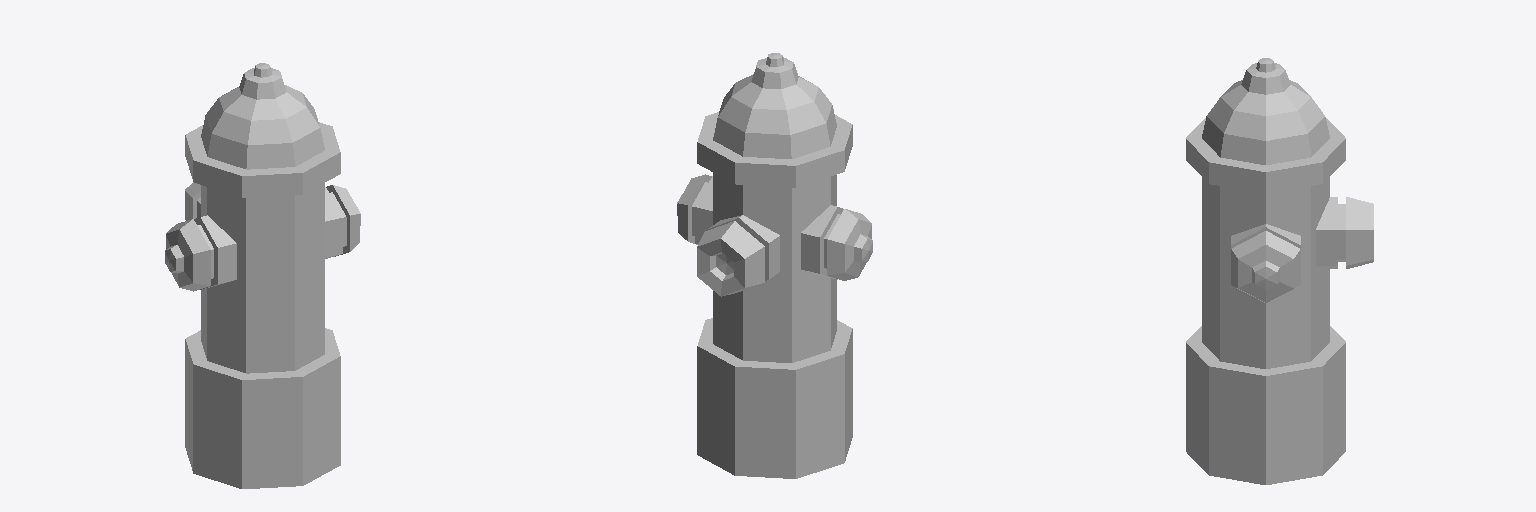
The model's file is FireHydrant_LowPoly.obj.
3 views of the same model, side by side, from view 1: azimuth 30°, elevation 25°; view 2: azimuth 150°, elevation 25°; view 3: azimuth 270°, elevation 25° (orthographic).
Parts seen in each view (by area): view 1: Circle.002; view 2: Circle.002; view 3: Circle.002.
Boxes of the visible parts, x1=… form: Circle.002: x1=165, y1=63, x2=360, y2=488; Circle.002: x1=677, y1=53, x2=872, y2=478; Circle.002: x1=1186, y1=58, x2=1373, y2=484.
Bounding box in the file's own units: 1.35 × 2.68 × 1.18.